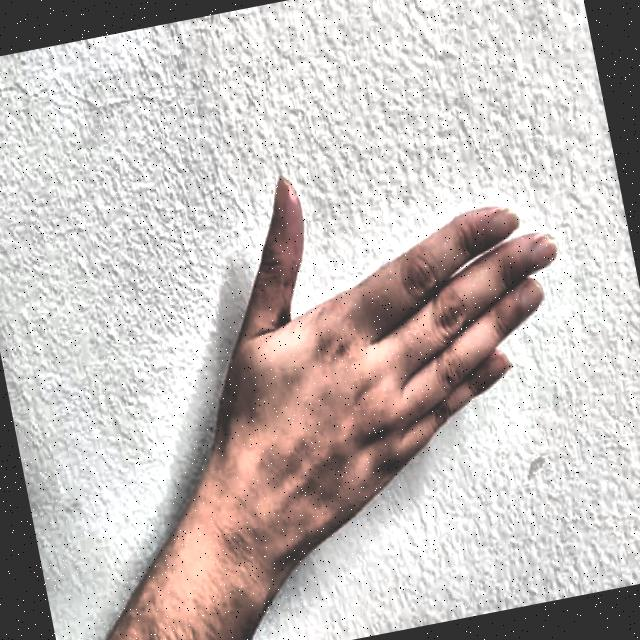Aa: (147, 68, 624, 596)
